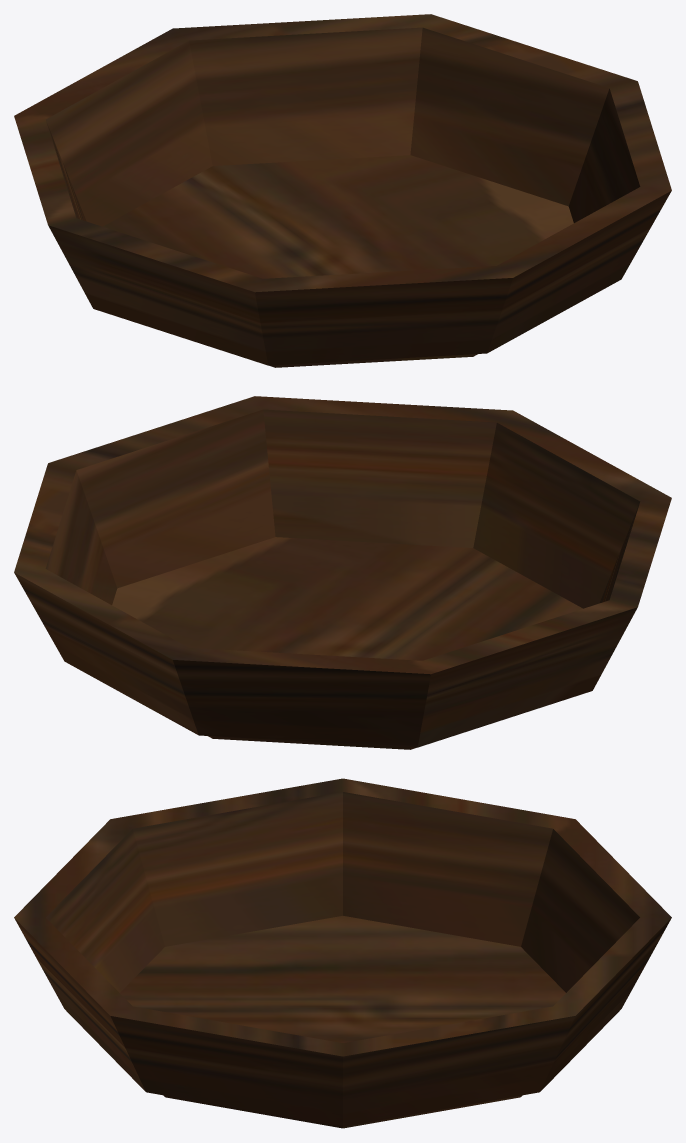
The model's file is Basket_1.fbx.
3 views of the same model, one above another, from view 1: azimuth 30°, elevation 25°; view 2: azimuth 150°, elevation 25°; view 3: azimuth 270°, elevation 25° (orthographic). The views are drawn at different scales.
Parts seen in each view (by area): view 1: Basket_1; view 2: Basket_1; view 3: Basket_1.
Part boxes in pixels (left/top/right/bottom): Basket_1: left=14, top=14, right=671, bottom=367; Basket_1: left=14, top=396, right=671, bottom=749; Basket_1: left=14, top=778, right=671, bottom=1128.
Bounding box in the file's own units: 3.4 × 0.5964 × 3.4.
1 material, 1 textured.
